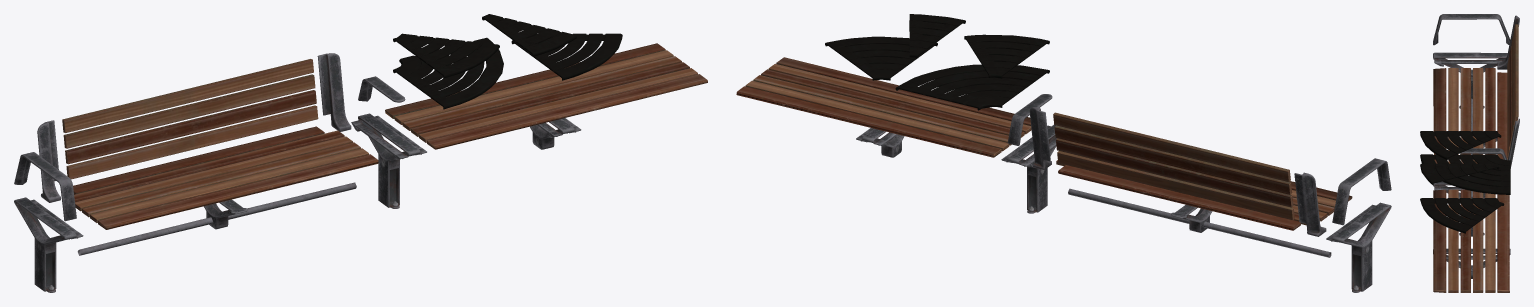
File: modular-street-seating.glb
3 renders of one model, left to right at view 1: azimuth 30°, elevation 25°; view 2: azimuth 150°, elevation 25°; view 3: azimuth 270°, elevation 25°, orthographic. The views are drawn at different scales.
Visible parts, largest first — view 1: seat_back, seat, seat_bench, connector_90, legs_double, legs_single, connector_45, connector_60, crossbar, connector_30, back_support_l, arm_rest_01 (+4 smaller); view 2: seat_bench, seat_back, connector_90, seat, connector_60, legs_single, connector_45, legs_double, crossbar, connector_30, arm_rest_01, back_support_r (+4 smaller); view 3: seat_bench, seat, connector_90, connector_60, connector_45, seat_back, connector_30, legs_single, arm_rest_01, arm_rest_02, back_support_r, legs_double (+3 smaller).
Boxes of the visible parts, x1,y1,x2,y2 form: seat_back: (62, 59, 318, 179); seat: (73, 126, 378, 229); seat_bench: (385, 43, 707, 149); connector_90: (393, 37, 503, 109); legs_double: (351, 113, 426, 208); legs_single: (14, 197, 83, 292); connector_45: (393, 33, 499, 78); connector_60: (511, 33, 622, 80); crossbar: (77, 182, 356, 255); connector_30: (482, 14, 576, 56); back_support_l: (317, 53, 351, 131); arm_rest_01: (14, 152, 76, 221); seat_bench: (736, 57, 1031, 157); seat_back: (1053, 112, 1294, 220); connector_90: (895, 64, 1049, 110); seat: (1056, 160, 1352, 230); connector_60: (825, 36, 937, 80); legs_single: (1326, 202, 1391, 292); connector_45: (964, 34, 1049, 78); legs_double: (1001, 124, 1056, 213); crossbar: (1068, 188, 1331, 257); connector_30: (909, 14, 965, 57); arm_rest_01: (1332, 158, 1391, 225); back_support_r: (1294, 172, 1326, 236); seat_bench: (1433, 189, 1509, 292); seat: (1433, 68, 1507, 163); connector_90: (1420, 154, 1510, 194); connector_60: (1420, 198, 1504, 233); connector_45: (1420, 131, 1501, 160); seat_back: (1507, 24, 1518, 157); connector_30: (1420, 163, 1499, 185); legs_single: (1433, 52, 1507, 108); arm_rest_01: (1433, 14, 1510, 45); arm_rest_02: (1460, 148, 1507, 160); back_support_r: (1497, 15, 1519, 69); legs_double: (1433, 181, 1485, 236).
Bounding box in the file's own units: 4.34 × 0.95 × 0.7704.
Materials: 4 (4 with a texture image).
